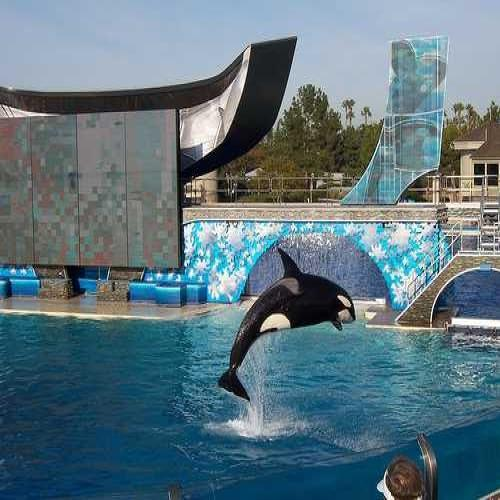killer_whale-endangered: (216, 237, 371, 402)
